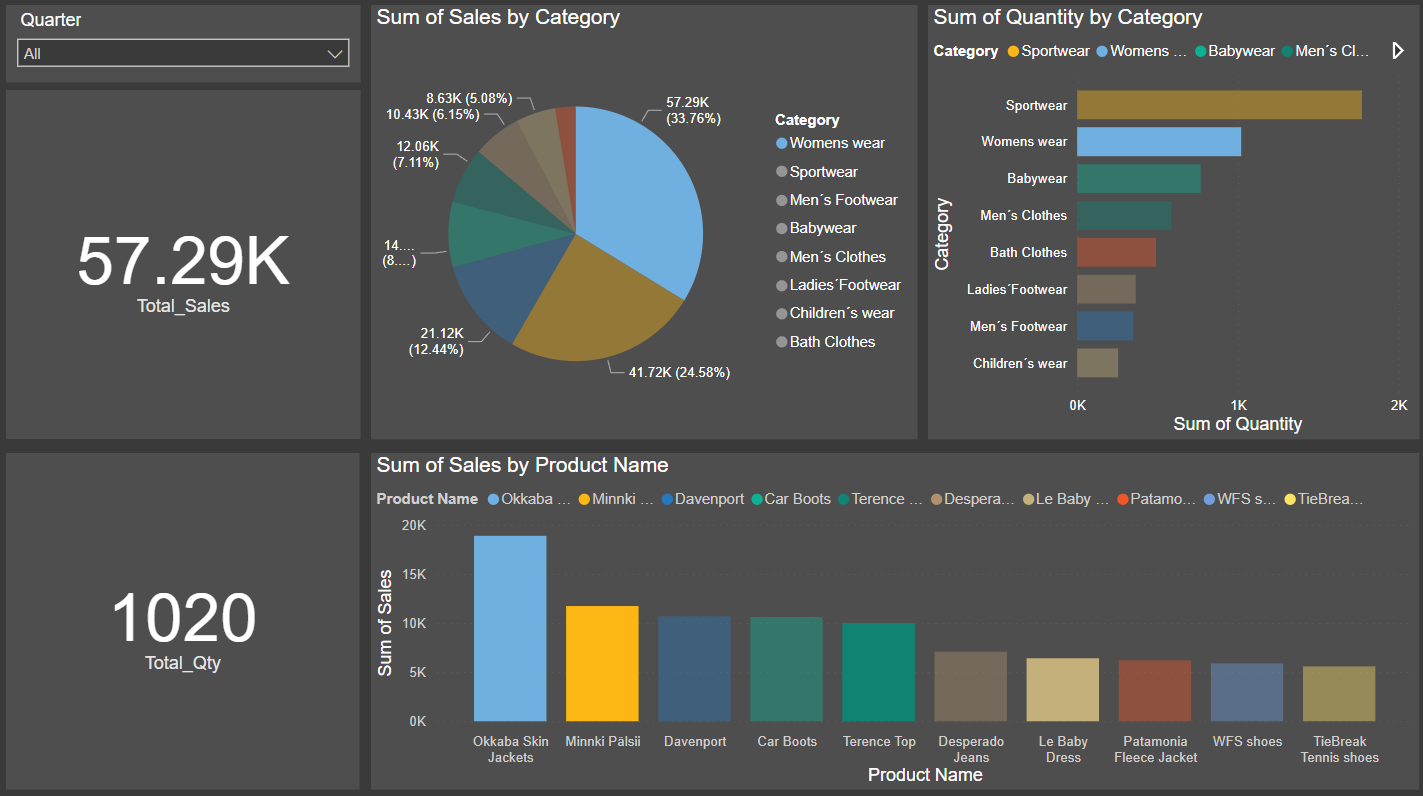

This screenshot's page, from the dashboard's own definition file:
{"tool":"powerbi","page":{"name":"Page 1","canvas":[1280,720],"ordinal":0},"visuals":[{"type":"card","fields":{"Values":["tProducts.Total_Sales"]},"box":[9.7,87.5,315.9,311],"z":0},{"type":"card","title":"test","fields":{"Values":["tProducts.Total_Qty"]},"box":[9.7,411.1,314.9,300.3],"z":1},{"type":"pieChart","title":"Sum of Sales by Category","fields":{"Category":["tCategories.Category"],"Y":["Sum(tProducts.Sales)"]},"box":[335.3,11.7,486.9,386.8],"z":2},{"type":"barChart","title":"Sum of Quantity by Category","fields":{"Y":["Sum(tProducts.Quantity)"],"Category":["tCategories.Category"],"Series":["tCategories.Category"]},"box":[831,11.7,438.3,386.8],"z":3},{"type":"columnChart","title":"Sum of Sales by Product Name","fields":{"Category":["tProducts.Product Name"],"Y":["Sum(tProducts.Sales)"],"Series":["tProducts.Product Name"]},"box":[335.3,411.1,934,300.3],"z":4},{"type":"slicer","fields":{"Values":["tProducts.OrderDate.Variation.Date Hierarchy.Quarter"]},"box":[9.7,11.7,315.9,69],"z":5}]}

Visuals, with their boxes in screenshot pixels (x1, y1, x2, y2), scaled from the page's 1280x720 canvas onto the 1423x796 screenshot:
card - tProducts.Total_Sales: [11,97,362,441]
"test" card: [11,454,361,786]
"Sum of Sales by Category" pieChart: [373,13,914,441]
"Sum of Quantity by Category" barChart: [924,13,1411,441]
"Sum of Sales by Product Name" columnChart: [373,454,1411,786]
slicer - tProducts.OrderDate.Variation.Date Hierarchy.Quarter: [11,13,362,89]
